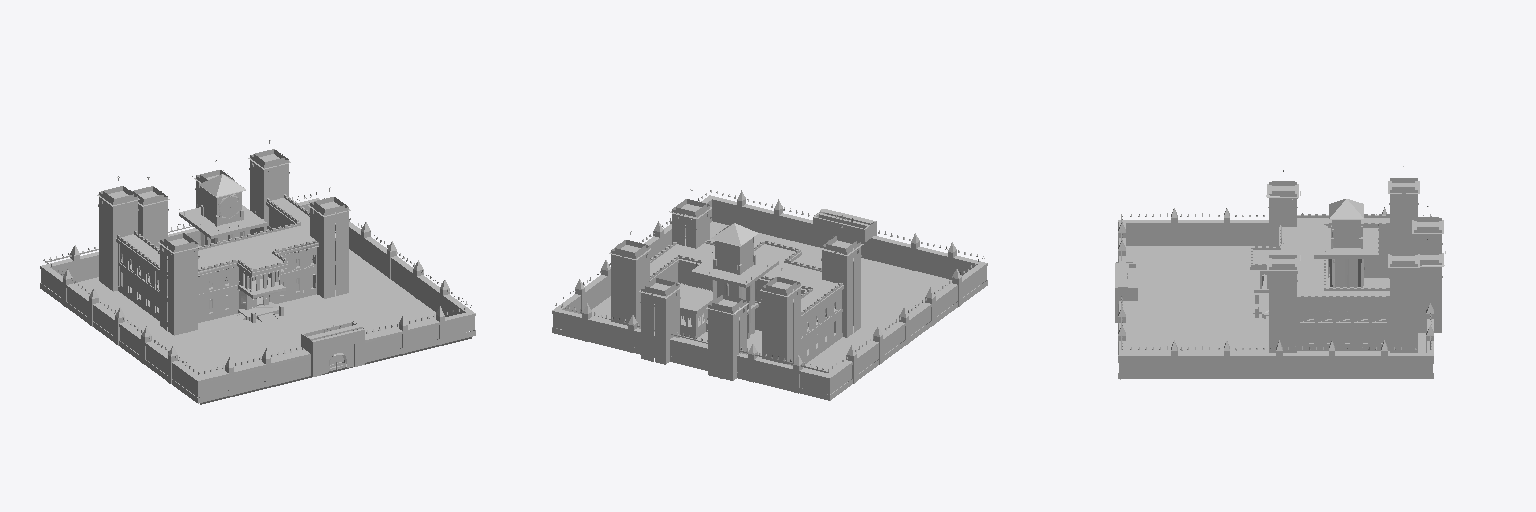
The model's file is terrain-collision.obj.
3 views of the same model, side by side, from view 1: azimuth 30°, elevation 25°; view 2: azimuth 150°, elevation 25°; view 3: azimuth 270°, elevation 25° (orthographic).
Parts seen in each view (by area): view 1: 紅魔館_mesh_紅魔館, _mesh_Untitled; view 2: 紅魔館_mesh_紅魔館, _mesh_Untitled; view 3: 紅魔館_mesh_紅魔館, _mesh_Untitled.
Part boxes in pixels (left/top/right/bottom): 紅魔館_mesh_紅魔館: left=49, top=140, right=471, bottom=404; _mesh_Untitled: left=40, top=192, right=475, bottom=403; 紅魔館_mesh_紅魔館: left=560, top=189, right=979, bottom=394; _mesh_Untitled: left=552, top=190, right=987, bottom=400; 紅魔館_mesh_紅魔館: left=1120, top=166, right=1445, bottom=379; _mesh_Untitled: left=1115, top=207, right=1433, bottom=378.
Size of the model in its own units: 79.82 by 31.47 by 82.15.